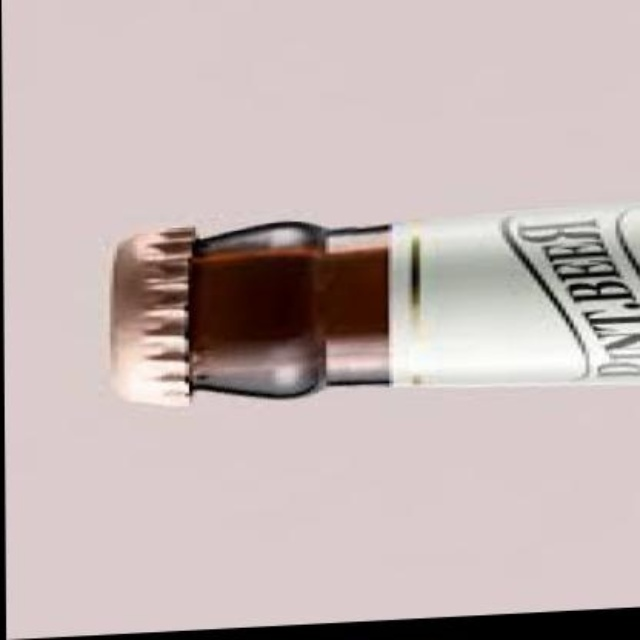trash: (111, 206, 638, 403)
